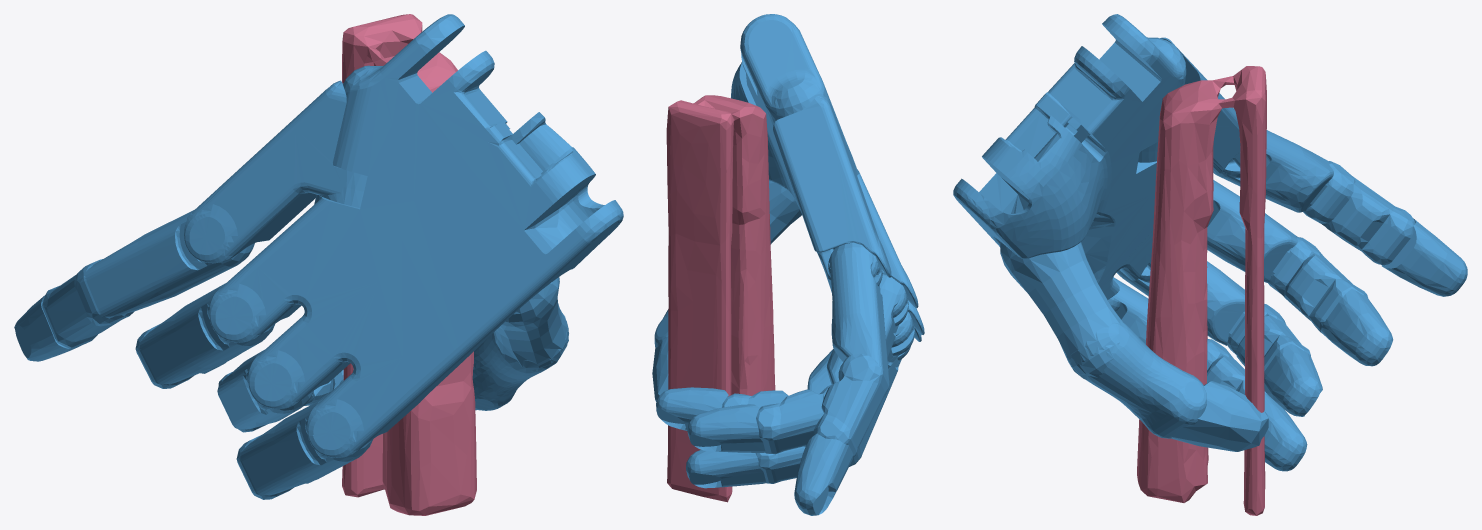
The picture shows the model from 3 angles, left to right: view 1: azimuth 30°, elevation 25°; view 2: azimuth 150°, elevation 25°; view 3: azimuth 270°, elevation 25°; orthographic projection. The views are drawn at different scales.
Parts seen in each view (by area): view 1: 6; view 2: 6; view 3: 6.
Part boxes in pixels (x1=…): 6: x1=14, y1=14, x2=623, y2=515; 6: x1=652, y1=14, x2=924, y2=515; 6: x1=953, y1=14, x2=1467, y2=515.
Size of the model in its own units: 0.1198 by 0.1692 by 0.1641.
